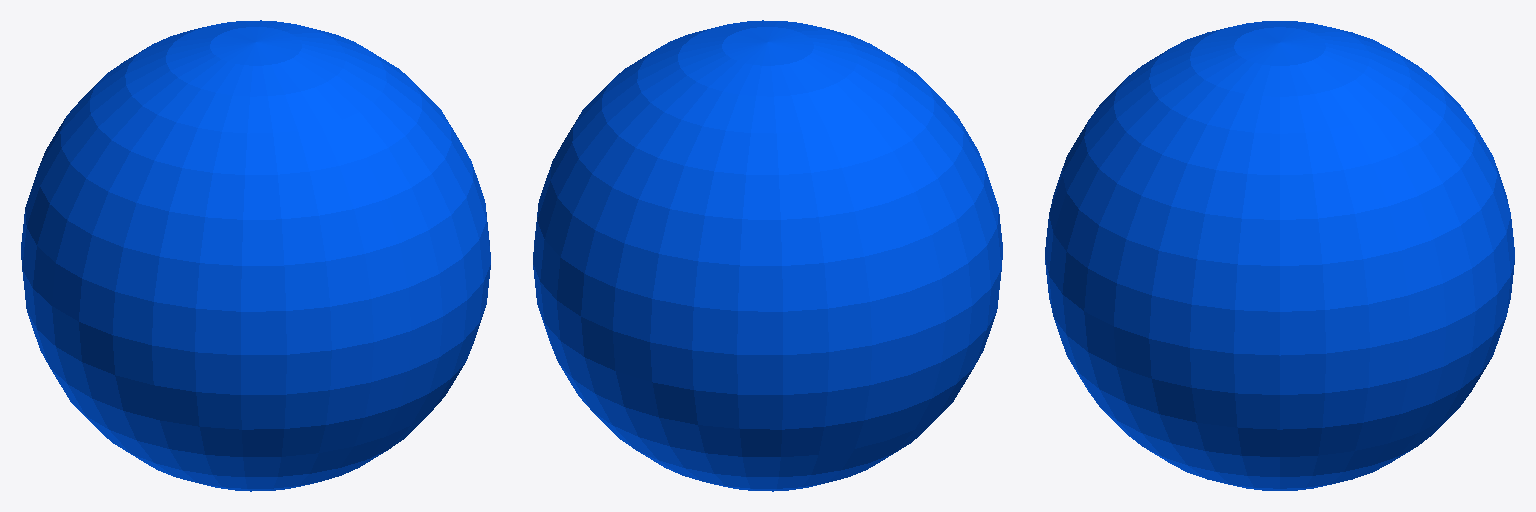
robot.urdf — combined:
<?xml version="1.0" encoding="utf-8"?>
<!-- =================================================================================== -->
<!-- |    This document was autogenerated by xacro from ur5_robot.urdf.xacro           | -->
<!-- |    EDITING THIS FILE BY HAND IS NOT RECOMMENDED                                 | -->
<!-- =================================================================================== -->
<robot name="combined">
  <!--robots pose-->
  <link name="world"/>

  <joint name="ABB_6640_180_255_pose" type="fixed">
    <parent link="world"/>
    <child link="ABB_6640_180_255_base_link"/>
    <origin rpy="0.0 0.0 0.0" xyz="0.0 0 0.0"/><!--ABB_6640_180_255 pedestal-->
  </joint>

  <joint name="ball_pose" type="fixed">
    <parent link="world"/>
    <child link="ball_link"/>
    <origin rpy="0.0 0.0 0.0" xyz="2.0 0 2.0"/><!--ABB_6640_180_255 pedestal-->
  </joint>

  <link name="ball_link">
    <collision>
      <geometry>
        <sphere radius="0.5"/>
      </geometry>
    </collision>
    <visual name="visual">
      <geometry>
        <sphere radius="0.5"/>
      </geometry>
      <material name="orange">
        <color rgba=".04 .42 1 1"/>
      </material>
    </visual>
  </link>


  <!--ABB_6640_180_255 part-->
  <link name="ABB_6640_180_255_base_link">
    <collision>
      <origin rpy="0 0 0" xyz="-.124 0 .12"/>
      <geometry>
        <box size="1.016 .729 .24"/>
      </geometry>
    </collision>
    <visual name="visual">
      <geometry>
        <mesh filename="model://ABB_6640_180_255/meshes/visual/Base.stl"/>
      </geometry>
      <material name="orange">
        <color rgba="1 .42 .04 1"/>
      </material>
    </visual>
    <inertial>
      <origin rpy="0 0 0" xyz="0 0 .107 "/>
      <mass value="254.138"/>
      <inertia ixx="9.459" ixy="-.018" ixz="-.297" iyy="9.18" iyz=".003" izz="16.946"/>
    </inertial>
  </link>
  <link name="ABB_6640_180_255_link_1">
    <collision>
      <origin rpy="0 0 0" xyz="0 0 -.434"/>
      <geometry>
        <cylinder length=".224" radius=".309"/>
      </geometry>
    </collision>
    <collision>
      <origin rpy="1.571 0 0" xyz=".32 .302 0"/>
      <geometry>
        <cylinder length=".226" radius=".107"/>
      </geometry>
    </collision>
    <collision>
      <origin rpy="0 0 0" xyz="-.127 .127 -.215"/>
      <geometry>
        <cylinder length=".214" radius=".118"/>
      </geometry>
    </collision>
    <collision>
      <origin rpy="0 0 0" xyz="-.278 -.197 -.261"/>
      <geometry>
        <box size=".31 .528 .368"/>
      </geometry>
    </collision>
    <collision>
      <origin rpy="3.142 0 3.142" xyz="-.263 -.183 -.168"/>
      <geometry>
        <box size=".628 .387 .556"/>
      </geometry>
    </collision>
    <collision>
      <origin rpy="0 0 0" xyz=".238 .025 -.371"/>
      <geometry>
        <box size=".436 .328 .192"/>
      </geometry>
    </collision>
    <collision>
      <origin rpy="0 0 0" xyz=".32 .025 -.008"/>
      <geometry>
        <box size=".518 .328 .534"/>
      </geometry>
    </collision>
    <visual name="visual">
      <origin rpy="0 0 0" xyz="0 0 -.78"/>
      <geometry>
        <mesh filename="model://ABB_6640_180_255/meshes/visual/Link1.stl"/>
      </geometry>
      <material name="orange"/>
    </visual>
    <visual name="visual2">
      <origin rpy="0 0 0" xyz="0 0 -.78"/>
      <geometry>
        <mesh filename="model://ABB_6640_180_255/meshes/visual/LinkD1.stl"/>
      </geometry>
      <material name="orange"/>
    </visual>
    <inertial>
      <origin rpy="0 0 0" xyz="-.011 -.038 -.214 "/>
      <mass value="469.323"/>
      <inertia ixx="29.062" ixy="11.518" ixz="3.154" iyy="50.561" iyz="-.943" izz="46.087"/>
    </inertial>
  </link>
  <link name="ABB_6640_180_255_link_2">
    <collision>
      <origin rpy="1.571 0 0" xyz="-.015 -.295 .522"/>
      <geometry>
        <box size=".538 1.429 .311"/>
      </geometry>
    </collision>
    <collision>
      <origin rpy="1.571 0 0" xyz=".092 -.111 .22"/>
      <geometry>
        <box size=".251 .169 .058"/>
      </geometry>
    </collision>
    <visual name="visual">
      <origin rpy="0 0 0" xyz="-.32 0 -.78"/>
      <geometry>
        <mesh filename="model://ABB_6640_180_255/meshes/visual/Link2.stl"/>
      </geometry>
      <material name="orange"/>
    </visual>
    <inertial>
      <origin rpy="0 0 0" xyz=".007 -.174 .441 "/>
      <mass value="153.009"/>
      <inertia ixx="37.57" ixy="-.08" ixz="-.145" iyy="37.47" iyz="-5.325" izz="3.526"/>
    </inertial>
  </link>
  <link name="ABB_6640_180_255_link_3">
    <collision>
      <origin rpy="0 1.571 0" xyz=".017 .249 .14"/>
      <geometry>
        <box size=".14 .14 .262"/>
      </geometry>
    </collision>
    <collision>
      <origin rpy="1.571 0 3.142" xyz="0 -.17 0"/>
      <geometry>
        <cylinder length=".135" radius=".238"/>
      </geometry>
    </collision>
    <collision>
      <origin rpy="1.571 0 0" xyz="0 .018 0"/>
      <geometry>
        <cylinder length=".242" radius=".118"/>
      </geometry>
    </collision>
    <collision>
      <origin rpy="0 1.571 0" xyz="-.2 .077 .19"/>
      <geometry>
        <box size=".405 .534 .171"/>
      </geometry>
    </collision>
    <collision>
      <origin rpy="0 1.571 0" xyz=".061 0 .2"/>
      <geometry>
        <cylinder length=".35" radius=".166"/>
      </geometry>
    </collision>
    <collision>
      <origin rpy="1.571 0 0" xyz="-.187 -.051 -.029"/>
      <geometry>
        <box size=".052 .085 .102"/>
      </geometry>
    </collision>
    <collision>
      <origin rpy="1.571 0 0" xyz=".178 -.051 .015"/>
      <geometry>
        <box size=".052 .109 .102"/>
      </geometry>
    </collision>
    <visual name="visual">
      <origin rpy="0 0 0" xyz="-.32 0 -1.855"/>
      <geometry>
        <mesh filename="model://ABB_6640_180_255/meshes/visual/Link3.stl"/>
      </geometry>
      <material name="orange"/>
    </visual>
    <inertial>
      <origin rpy="0 0 0" xyz="-.045 .022 .139 "/>
      <mass value="212.29"/>
      <inertia ixx="6.575" ixy="-1.029" ixz="-.621" iyy="6.667" iyz=".976" izz="7.699"/>
    </inertial>
  </link>
  <link name="ABB_6640_180_255_link_4">
    <collision>
      <origin rpy="1.571 0 0" xyz="1.1425 -.139 0"/>
      <geometry>
        <cylinder length=".092" radius=".139"/>
      </geometry>
    </collision>
    <collision>
      <origin rpy="1.571 0 0" xyz="1.068 -.139 0"/>
      <geometry>
        <box size=".145 .278 .092"/>
      </geometry>
    </collision>
    <collision>
      <origin rpy="1.571 0 0" xyz="1.1425 .138 0"/>
      <geometry>
        <cylinder length=".075" radius=".139"/>
      </geometry>
    </collision>
    <collision>
      <origin rpy="0 1.571 0" xyz=".21 0 0"/>
      <geometry>
        <cylinder length=".98" radius=".122"/>
      </geometry>
    </collision>
    <collision>
      <origin rpy="1.571 0 0" xyz="1.068 .138 0"/>
      <geometry>
        <box size=".145 .278 .075"/>
      </geometry>
    </collision>
    <collision>
      <origin rpy="0 1.571 0" xyz=".83 -.005 0"/>
      <geometry>
        <box size=".278 .36 .331"/>
      </geometry>
    </collision>
    <visual name="visual">
      <origin rpy="0 0 0" xyz="-.32 0 -2.055"/>
      <geometry>
        <mesh filename="model://ABB_6640_180_255/meshes/visual/Link4.stl"/>
      </geometry>
      <material name="orange"/>
    </visual>
    <inertial>
      <origin rpy="0 0 0" xyz=".606 -.008 0 "/>
      <mass value="185.22"/>
      <inertia ixx="1.744" ixy="-.722" ixz=".014" iyy="30.392" iyz="-.005" izz="31.078"/>
    </inertial>
  </link>
  <link name="ABB_6640_180_255_link_5">
    <collision>
      <origin rpy="-.697 -1.571 .697" xyz=".023 0 0"/>
      <geometry>
        <cylinder length=".307" radius=".107"/>
      </geometry>
    </collision>
    <visual name="visual">
      <origin rpy="0 0 0" xyz="-1.462 0 -2.055"/>
      <geometry>
        <mesh filename="model://ABB_6640_180_255/meshes/visual/Link5.stl"/>
      </geometry>
      <material name="orange"/>
    </visual>
    <inertial>
      <origin rpy="0 0 0" xyz=".039 .001 0 "/>
      <mass value="26.117"/>
      <inertia ixx=".106" ixy="-.005" ixz="0" iyy=".207" iyz="0" izz=".218"/>
    </inertial>
  </link>
  <link name="ABB_6640_180_255_link_6">
    <collision>
      <origin rpy="0 1.571 0" xyz="-.019 0 0"/>
      <geometry>
        <cylinder length=".037" radius=".109"/>
      </geometry>
    </collision>
    <visual name="visual">
      <origin rpy="0 0 0" xyz="-1.662 0 -2.055"/>
      <geometry>
        <mesh filename="model://ABB_6640_180_255/meshes/visual/Link6.stl"/>
      </geometry>
      <material name="orange"/>
    </visual>
    <inertial>
      <origin rpy="0 0 0" xyz="-.019 -.001 0 "/>
      <mass value="3.371"/>
      <inertia ixx=".017" ixy="0" ixz="0" iyy=".009" iyz="0" izz=".009"/>
    </inertial>
  </link>
  <link name="ABB_6640_180_255_tool">
    <visual name="visual">
      <origin rpy="0 0 0" xyz="0 0 0"/>
      <geometry>
        <mesh filename="model://paintgun/meshes/paint_gun.stl" scale="0.001 0.001 0.001"/>
      </geometry>
      <material name="orange"/>
    </visual>
    <collision>
      <origin rpy="0 0 0" xyz="0 0 0"/>
      <geometry>
        <mesh filename="model://paintgun/meshes/paint_gun.stl" scale="0.001 0.001 0.001"/>
      </geometry>
    </collision>

  </link>
  <!-- end of link list -->
  <!-- joint list -->
  <joint name="ABB_6640_180_255_joint_1" type="revolute">
    <origin rpy="0 0 0" xyz="0 0 0.780"/>
    <axis xyz="0 0 1"/>
    <parent link="ABB_6640_180_255_base_link"/>
    <child link="ABB_6640_180_255_link_1"/>
    <limit effort="0" lower="-2.967" upper="2.967" velocity="1.7453"/>
  </joint>
  <joint name="ABB_6640_180_255_joint_2" type="revolute">
    <origin rpy="0 0 0" xyz="0.320 0 0"/>
    <axis xyz="0 1 0"/>
    <parent link="ABB_6640_180_255_link_1"/>
    <child link="ABB_6640_180_255_link_2"/>
    <limit effort="0" lower="-1.134" upper="1.4855" velocity="1.5707"/>
  </joint>
  <joint name="ABB_6640_180_255_joint_3" type="revolute">
    <origin rpy="0 0 0" xyz="0 0 1.075"/>
    <axis xyz="0 1 0"/>
    <parent link="ABB_6640_180_255_link_2"/>
    <child link="ABB_6640_180_255_link_3"/>
    <limit effort="0" lower="-3.142" upper="1.222" velocity="1.5707"/>
  </joint>
  <joint name="ABB_6640_180_255_joint_4" type="revolute">
    <origin rpy="0 0 0" xyz="0 0 0.2"/>
    <axis xyz="1 0 0"/>
    <parent link="ABB_6640_180_255_link_3"/>
    <child link="ABB_6640_180_255_link_4"/>
    <limit effort="0" lower="-5.236" upper="5.236" velocity="2.9671"/>
  </joint>
  <joint name="ABB_6640_180_255_joint_5" type="revolute">
    <origin rpy="0 0 0" xyz="1.1425 0 0 "/>
    <axis xyz="0 1 0"/>
    <parent link="ABB_6640_180_255_link_4"/>
    <child link="ABB_6640_180_255_link_5"/>
    <limit effort="0" lower="-2.094" upper="2.094" velocity="2.4435"/>
  </joint>
  <joint name="ABB_6640_180_255_joint_6" type="revolute">
    <origin rpy="0 0 0" xyz="0.2 0 0 "/>
    <axis xyz="1 0 0"/>
    <parent link="ABB_6640_180_255_link_5"/>
    <child link="ABB_6640_180_255_link_6"/>
    <limit effort="0" lower="-6.283" upper="6.283" velocity="3.3161"/>
  </joint>
  <joint name="joint_6-tool0" type="fixed">
    <parent link="ABB_6640_180_255_link_6"/>
    <child link="ABB_6640_180_255_tool"/>
    <origin rpy="0 1.57079632679 0" xyz="0 0 0"/>
  </joint>
  <!-- end of joint list -->



</robot>

--- What the picture shows (computed from the rendered views, not written in the file) ---
3 views of the same robot in one strip: view 1: azimuth 30°, elevation 25°; view 2: azimuth 150°, elevation 25°; view 3: azimuth 270°, elevation 25° (orthographic).
Robot: combined — 10 links, 9 joints (6 revolute, 3 fixed); root link world; default pose: all joints at 0.
Links seen in each view (by area): view 1: ball_link; view 2: ball_link; view 3: ball_link.
Link boxes in pixels (left/top/right/bottom): ball_link: left=21, top=20, right=490, bottom=491; ball_link: left=533, top=20, right=1002, bottom=491; ball_link: left=1045, top=21, right=1514, bottom=490.
Bounding box of the posed robot: 1 × 1 × 1 m (x, y, z).
Meshes: 9 distinct files referenced, 0 mesh visuals loaded (none loaded); not drawn: 9 (reference not matched to a file when rendering).